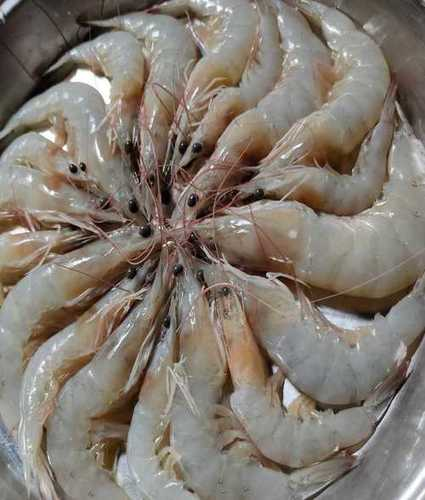White Prawn: (193, 195, 421, 290), (127, 313, 185, 495), (134, 0, 171, 225)
